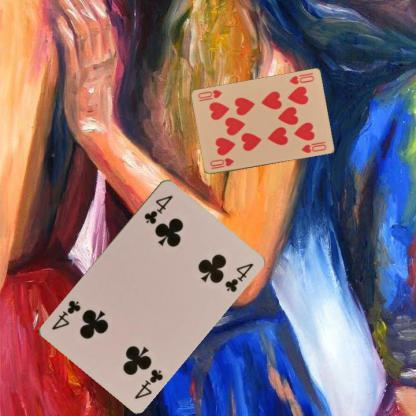10h: (208, 156, 235, 170), (286, 73, 315, 86)
4c: (141, 192, 174, 225), (132, 366, 164, 400)
